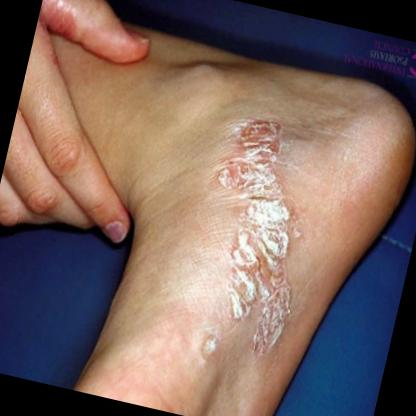Psoriasis: (167, 94, 341, 380)
